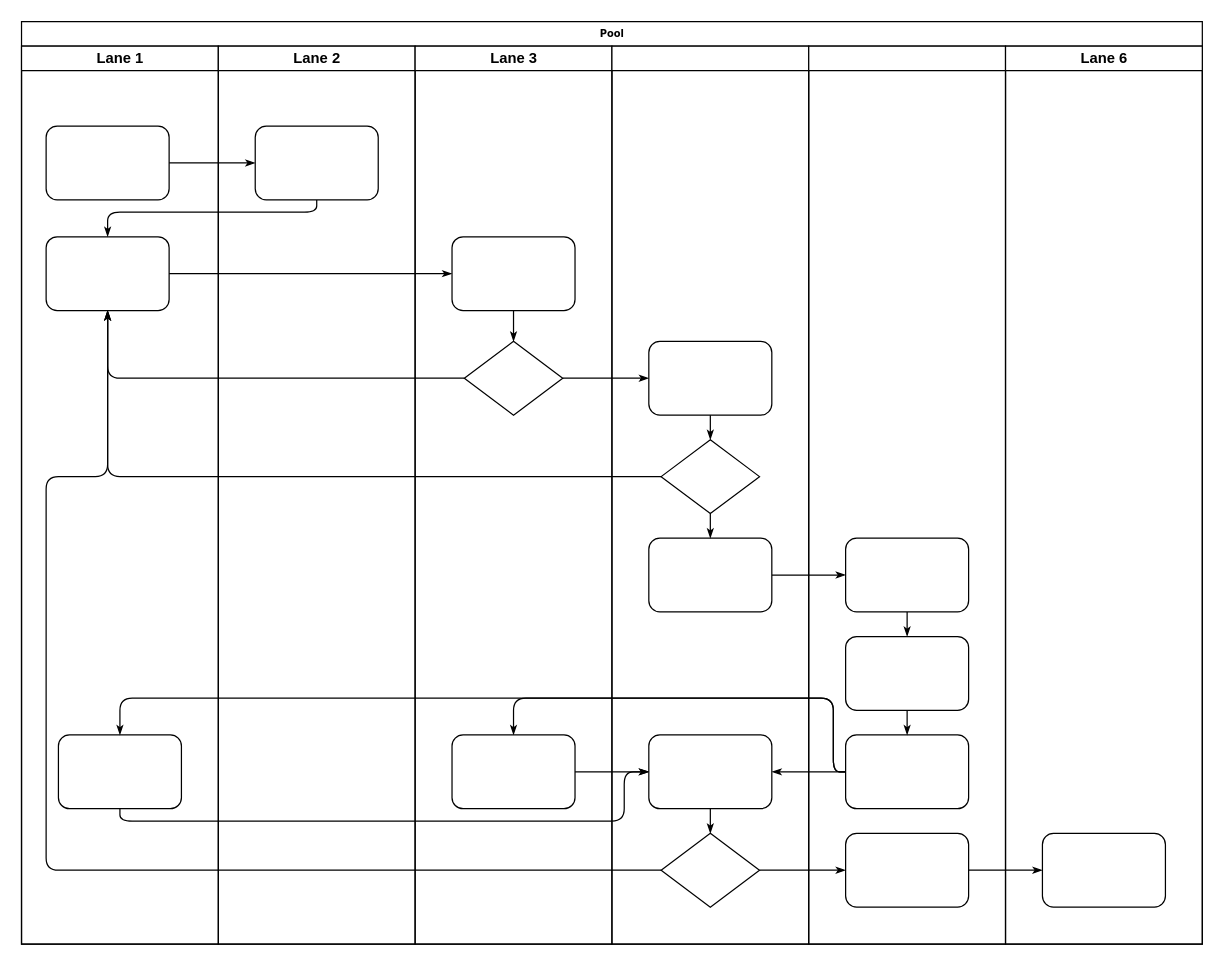
Some shapes in this 1224 by 966 pixel diagram are drawn without their labels. The box of each missing label's shape, as (x1, y1, x2, y2) in pixels:
Lane 4: (611, 45, 809, 944)
Lane 5: (807, 45, 1006, 944)
试试: (45, 125, 169, 200)
